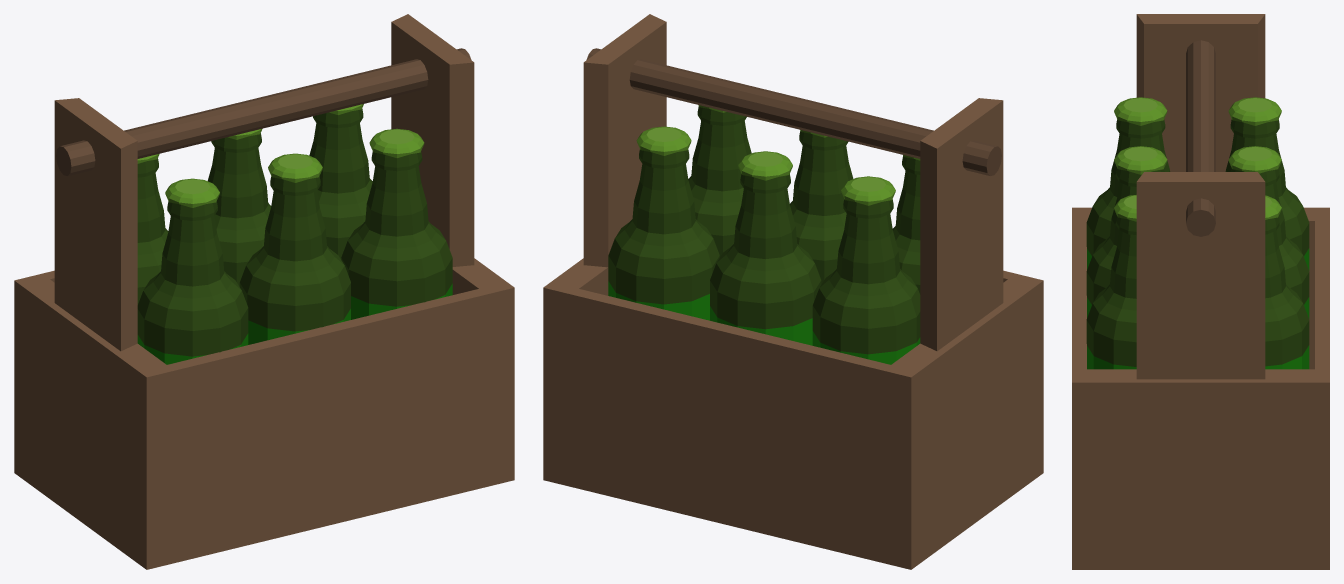
Rendered from 6pack.fbx.
3 views of the same model, side by side, from view 1: azimuth 30°, elevation 25°; view 2: azimuth 150°, elevation 25°; view 3: azimuth 270°, elevation 25° (orthographic). The views are drawn at different scales.
Visible parts, largest first — view 1: Cylinder; view 2: Cylinder; view 3: Cylinder.
Part boxes in pixels (x1=…): Cylinder: x1=14, y1=14, x2=514, y2=569; Cylinder: x1=543, y1=14, x2=1043, y2=569; Cylinder: x1=1072, y1=14, x2=1329, y2=569.
Size of the model in its own units: 265 by 249 by 151.
